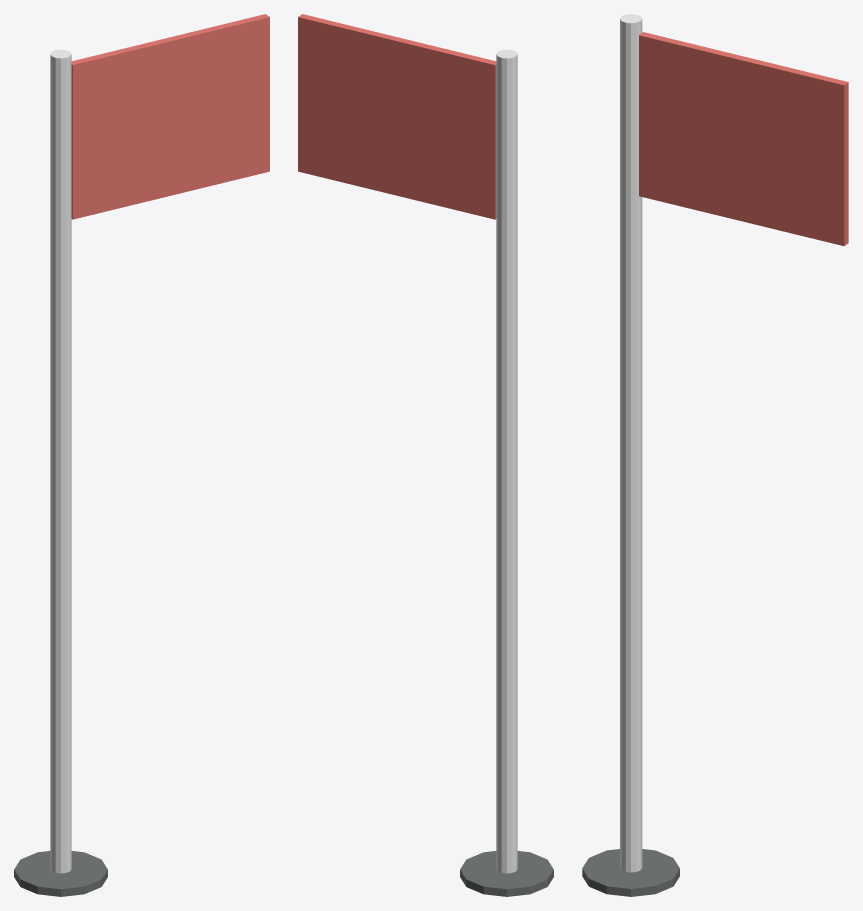
File: golf-flag.glb
3 renders of one model, left to right at view 1: azimuth 30°, elevation 25°; view 2: azimuth 150°, elevation 25°; view 3: azimuth 330°, elevation 25°, orthographic. The views are drawn at different scales.
Visible parts, largest first — view 1: golf-flag; view 2: golf-flag; view 3: golf-flag.
Part boxes in pixels (x1,y1,x2,y2): golf-flag: [14, 14, 269, 896]; golf-flag: [298, 14, 553, 896]; golf-flag: [582, 14, 848, 896].
Bounding box in the file's own units: 0.3144 × 1 × 0.1032.
